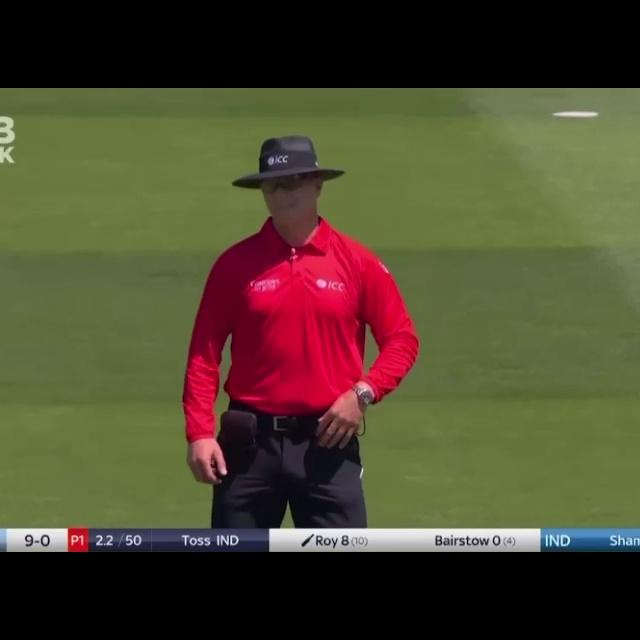umpire: (155, 128, 469, 520)
